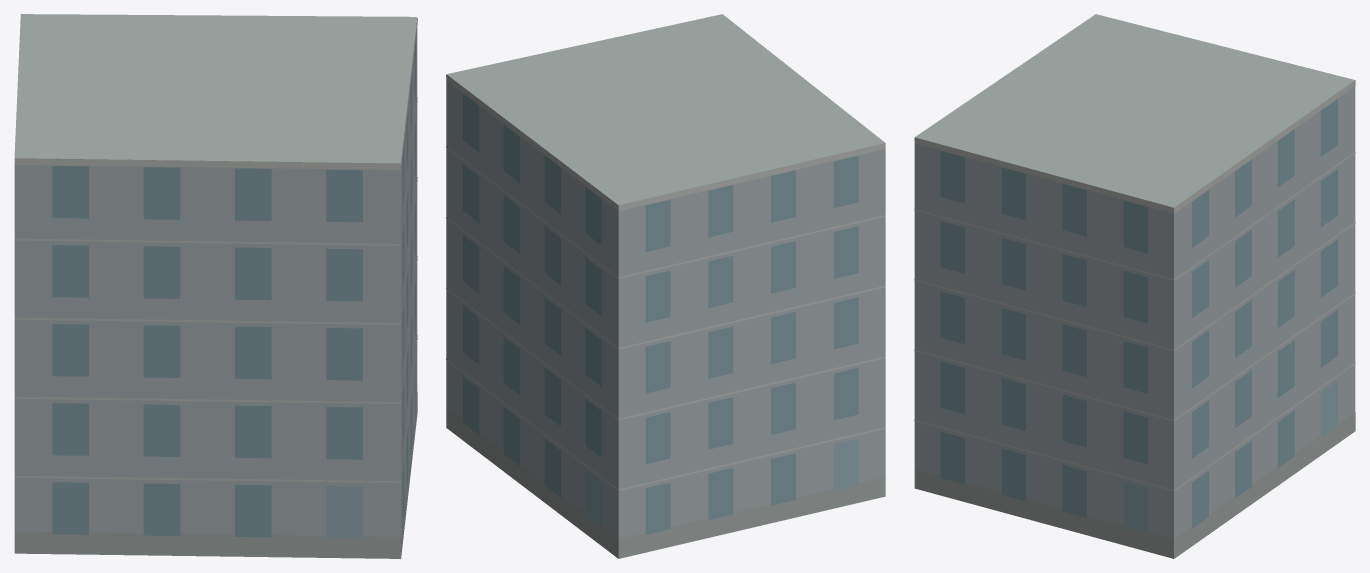
Rendered from survey-upis-32726594.glb.
3 views of the same model, side by side, from view 1: azimuth 30°, elevation 25°; view 2: azimuth 150°, elevation 25°; view 3: azimuth 270°, elevation 25° (orthographic). The views are drawn at different scales.
Parts seen in each view (by area): view 1: survey-upis-32726594.tmp; view 2: survey-upis-32726594.tmp; view 3: survey-upis-32726594.tmp.
Part boxes in pixels (<box>): survey-upis-32726594.tmp: <box>14,14,417,558</box>; survey-upis-32726594.tmp: <box>446,14,885,558</box>; survey-upis-32726594.tmp: <box>914,14,1355,558</box>.
Bounding box in the file's own units: 17.3 × 14.6 × 16.63.
